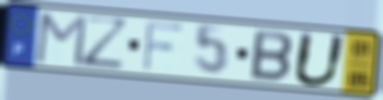5: (194, 22, 233, 80)
B: (247, 28, 295, 84)
F: (140, 20, 186, 74)
M: (32, 11, 90, 70)
U: (290, 30, 350, 89)
Z: (79, 13, 133, 70)
